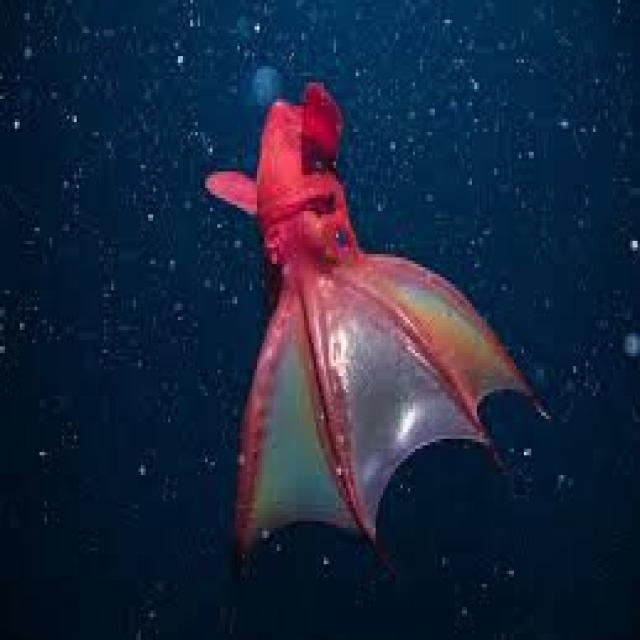squid: (205, 82, 541, 544)
